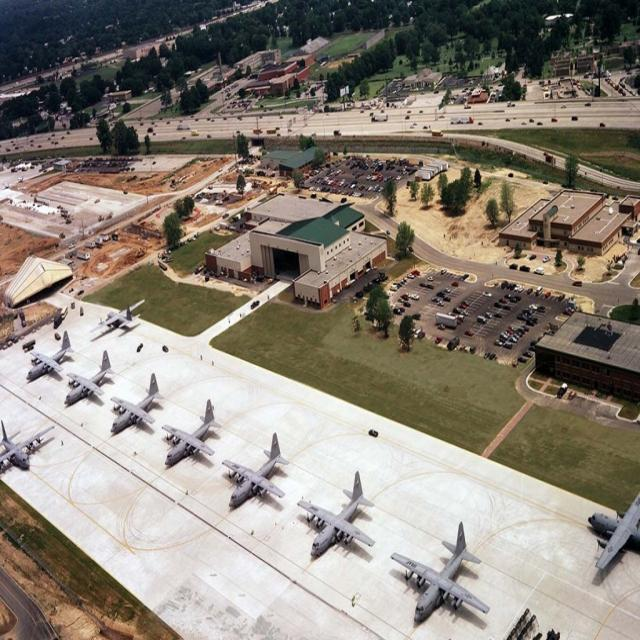MIL_Plane: (70, 536, 171, 607), (296, 470, 377, 558), (221, 432, 290, 508), (161, 76, 222, 144), (587, 492, 640, 569), (109, 52, 164, 115), (64, 349, 115, 406), (2, 97, 55, 149), (26, 329, 75, 382), (90, 299, 146, 333)
